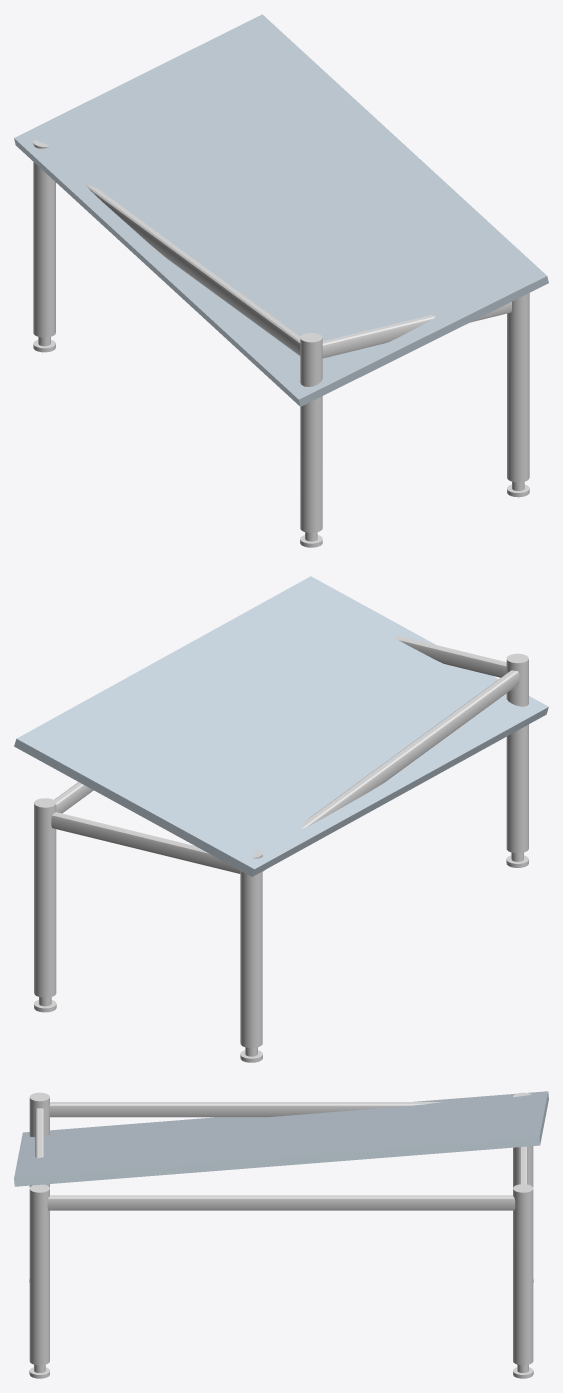
Rendered from OfficeTableDistorted.fbx.
3 renders of one model, top to bottom at view 1: azimuth 30°, elevation 25°; view 2: azimuth 150°, elevation 25°; view 3: azimuth 270°, elevation 25°, orthographic. The views are drawn at different scales.
Visible parts, largest first — view 1: Plane; view 2: Plane; view 3: Plane.
Boxes of the visible parts, <box> form: Plane: <box>14,14,548,547</box>; Plane: <box>14,576,548,1062</box>; Plane: <box>14,1091,548,1378</box>.
Bounding box in the file's own units: 183 × 89.5 × 92.54.
